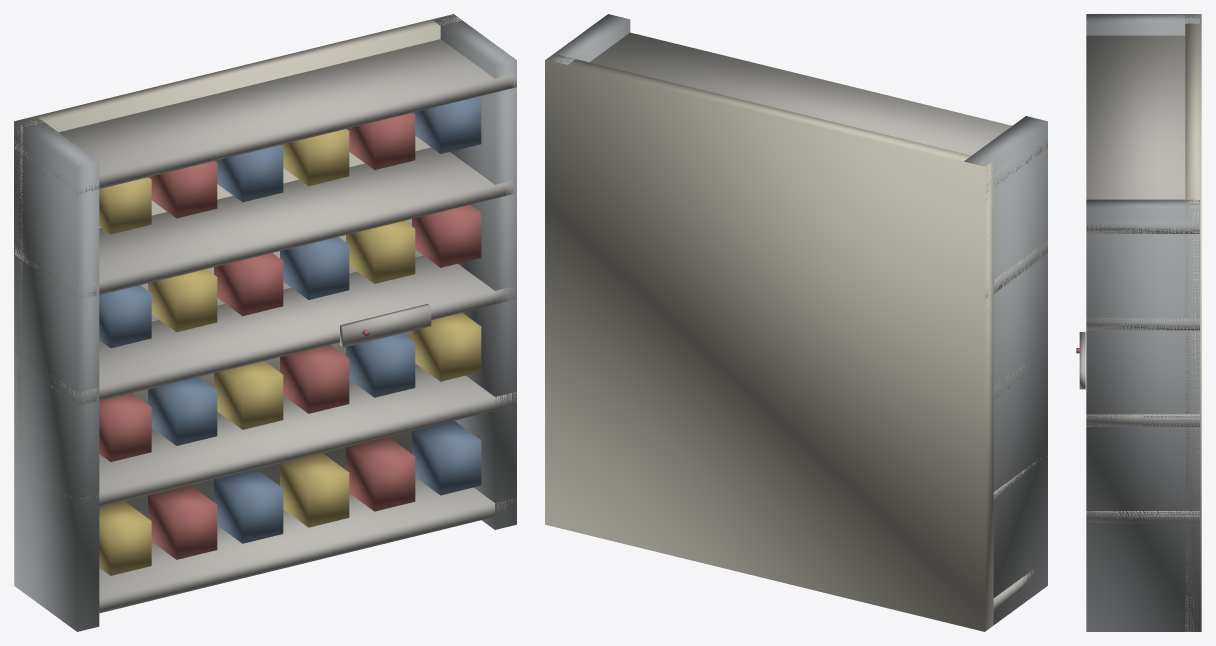
File: pharmacy_shelf__squat.glb
3 views of the same model, side by side, from view 1: azimuth 30°, elevation 25°; view 2: azimuth 150°, elevation 25°; view 3: azimuth 270°, elevation 25° (orthographic). The views are drawn at different scales.
Visible parts, largest first — view 1: world; view 2: world; view 3: world.
Part boxes in pixels (x1=…): world: x1=14, y1=14, x2=516, y2=631; world: x1=545, y1=14, x2=1047, y2=631; world: x1=1076, y1=14, x2=1201, y2=631.
Bounding box in the file's own units: 1.54 × 1.55 × 0.4169.
